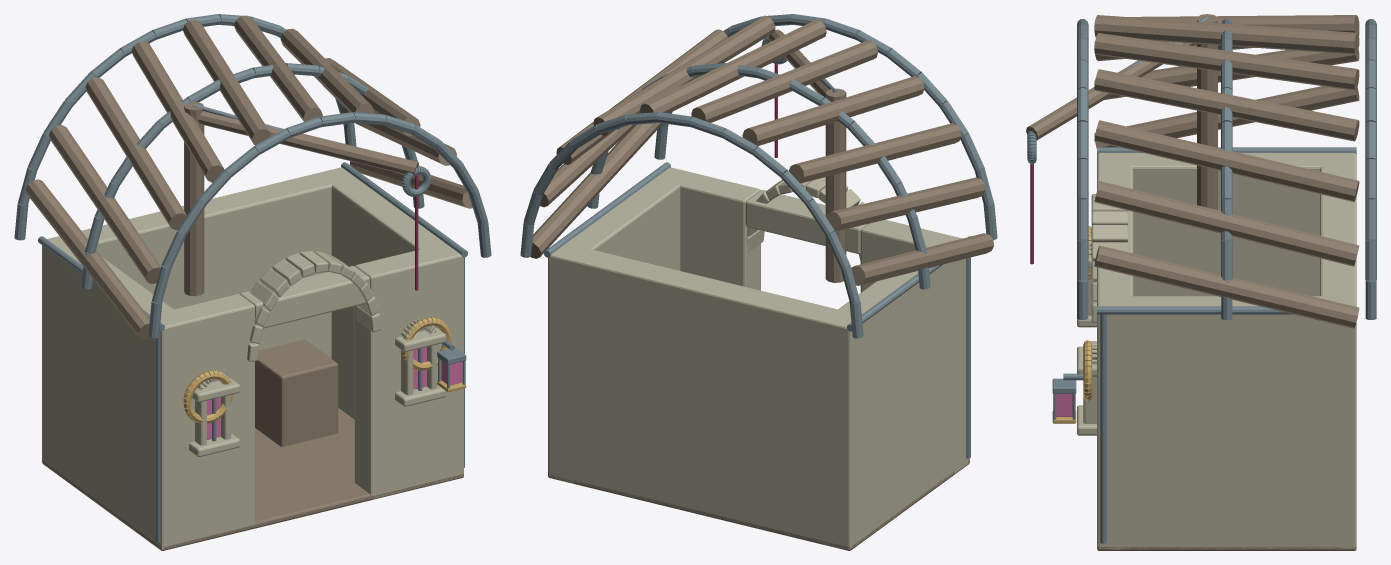
File: a4_service_4.glb
3 renders of one model, left to right at view 1: azimuth 30°, elevation 25°; view 2: azimuth 150°, elevation 25°; view 3: azimuth 270°, elevation 25°, orthographic. The views are drawn at different scales.
Parts seen in each view (by area): view 1: Front.016, Roof.016, Side.016, Body.034; view 2: Body.034, Roof.016, Side.016, Front.016; view 3: Side.016, Roof.016, Body.034, Front.016.
Part boxes in pixels (left/top/right/bottom): Front.016: left=146, top=243, right=466, bottom=549; Roof.016: left=14, top=14, right=491, bottom=339; Side.016: left=42, top=167, right=464, bottom=549; Body.034: left=42, top=167, right=463, bottom=550; Body.034: left=548, top=243, right=969, bottom=550; Roof.016: left=520, top=14, right=997, bottom=338; Side.016: left=549, top=167, right=970, bottom=550; Front.016: left=656, top=167, right=968, bottom=473; Side.016: left=1097, top=153, right=1356, bottom=549; Roof.016: left=1026, top=14, right=1376, bottom=328; Body.034: left=1097, top=153, right=1356, bottom=550; Front.016: left=1052, top=153, right=1133, bottom=550.
Bounding box in the file's own units: 3.35 × 3.72 × 2.7.
